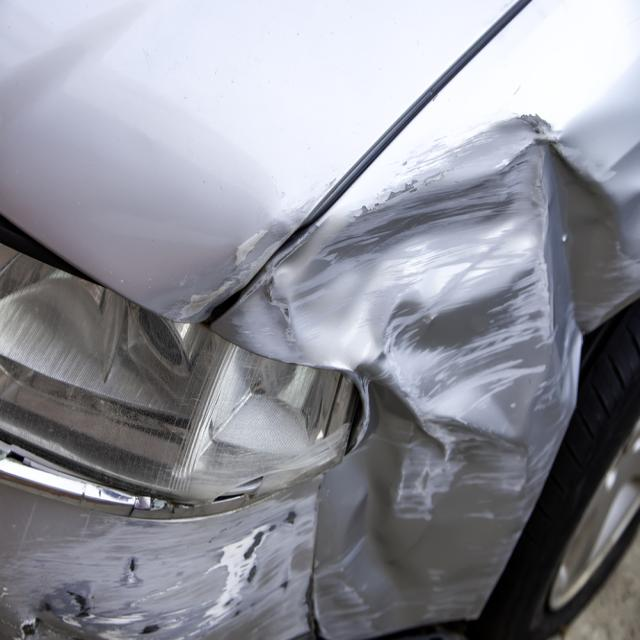dent: (214, 124, 640, 640)
scratch: (0, 458, 370, 640), (160, 181, 334, 320)
